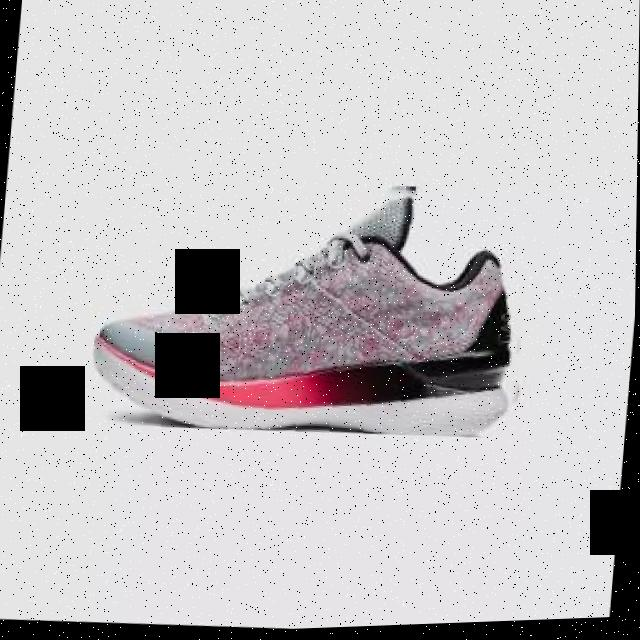shoe: (98, 165, 535, 453), (93, 191, 519, 440)
